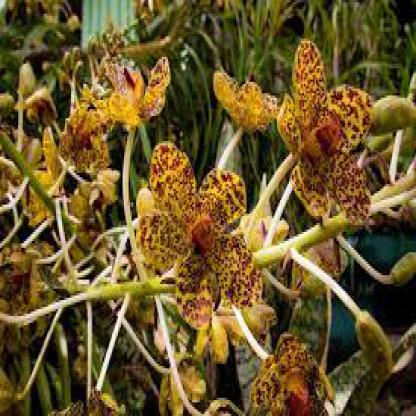ANGGREK: (16, 33, 385, 362)
